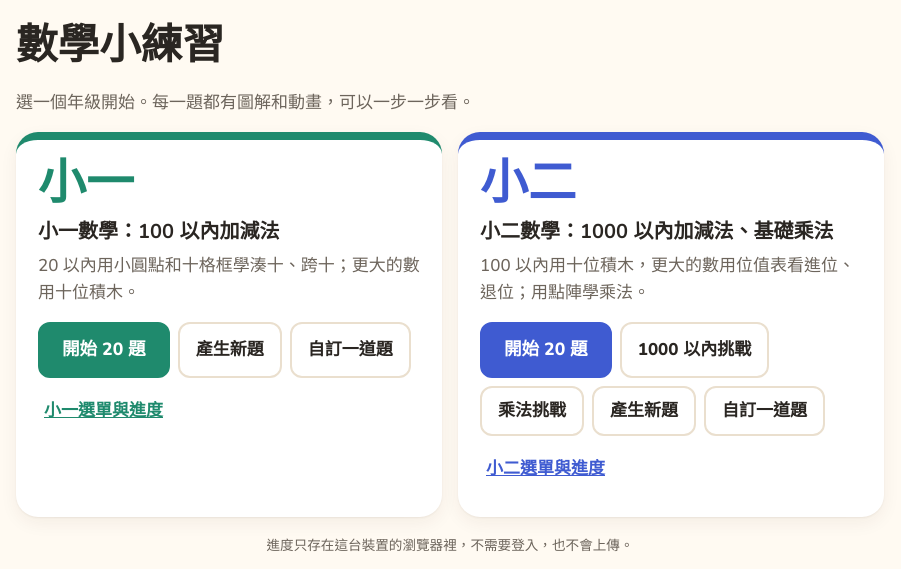
Test: app flow › grade 1 custom question rejects answers over 100 with a reason
The width and height of the screenshot is (901, 569).
Click the button "自訂一道題" below "20 以內用小圓點和十格框學湊十、跨十；更大的數用十位積木。": (350,350) [290,322,411,378]
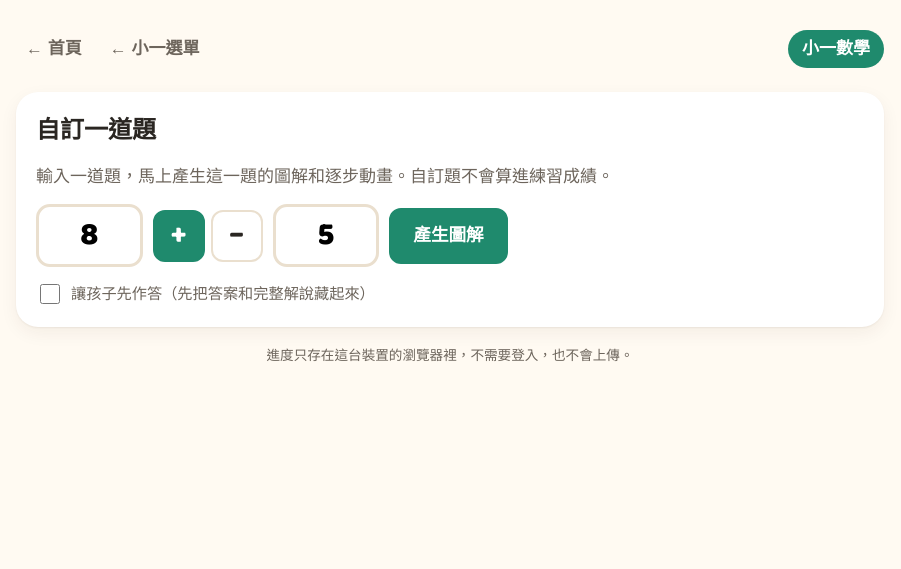
Now the heading "乘" is gone
Replace the text in the field named "第一個數字" with "60": (89,236) [36,204,143,268]
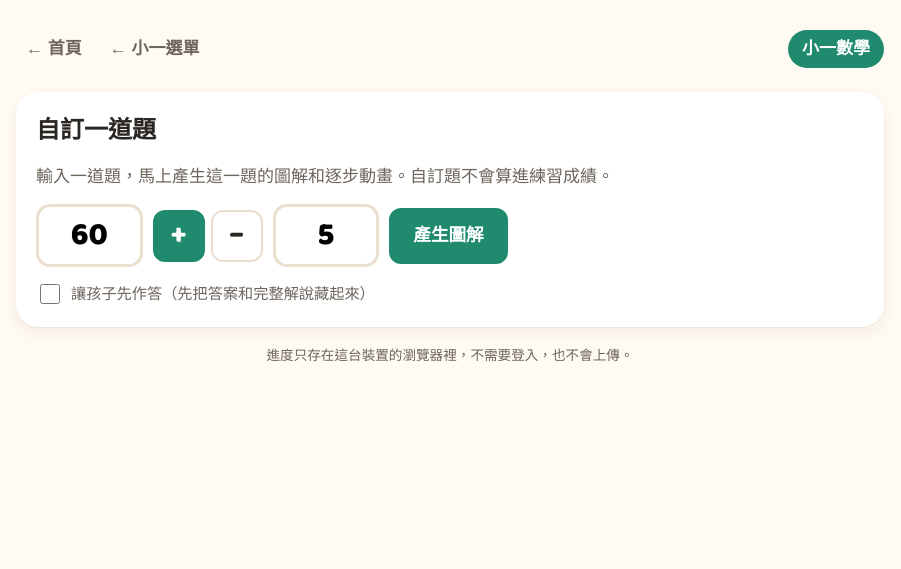
Replace the text in the field named "第二個數字" with "50": (326,236) [273,204,379,268]
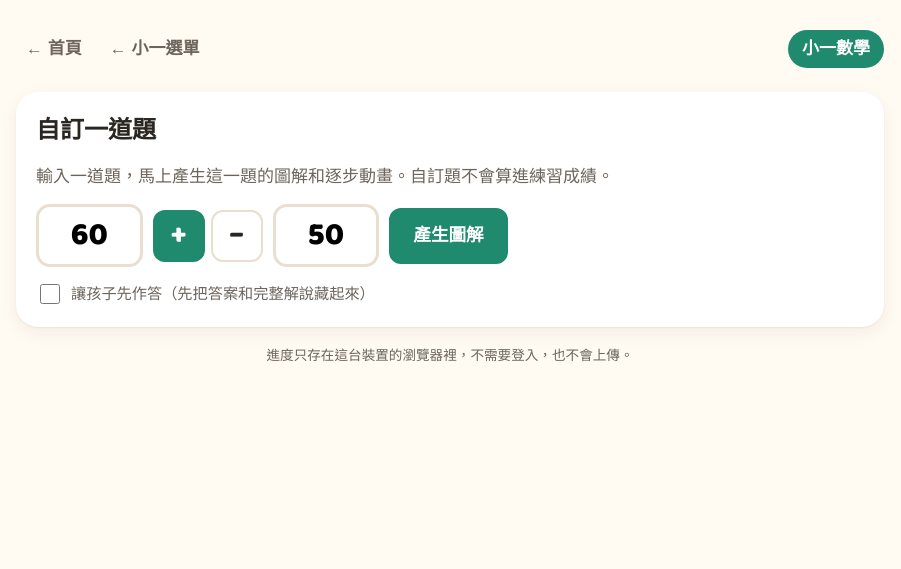
Click the button "產生圖解": (448,236) [389,208,508,264]
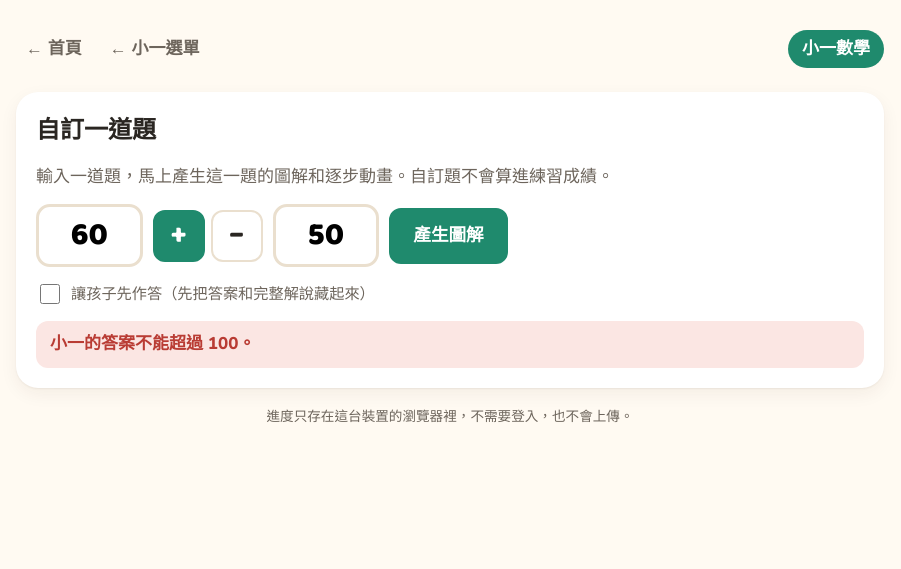
Now the message shows "小一的答案不能超過 100", box [50,332,255,356]
